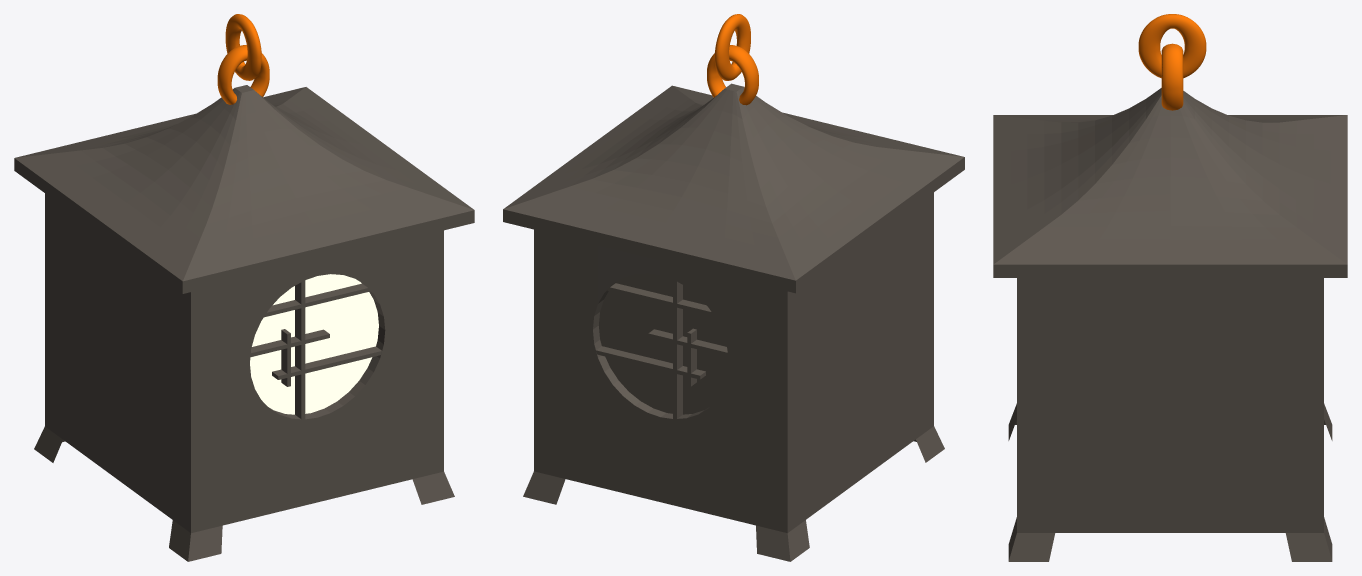
File: Lantern1.fbx
3 views of the same model, side by side, from view 1: azimuth 30°, elevation 25°; view 2: azimuth 150°, elevation 25°; view 3: azimuth 270°, elevation 25° (orthographic). The views are drawn at different scales.
Parts seen in each view (by area): view 1: Lantern1, Chain1; view 2: Lantern1, Chain1; view 3: Lantern1, Chain1.
Boxes of the visible parts, box(x1,y1,x2,y2) form: Lantern1: box(14, 85, 474, 561); Chain1: box(217, 14, 269, 104); Lantern1: box(503, 83, 964, 561); Chain1: box(707, 14, 758, 105); Lantern1: box(993, 88, 1347, 561); Chain1: box(1138, 14, 1206, 110).
Bounding box in the file's own units: 37.97 × 56.65 × 37.97.
